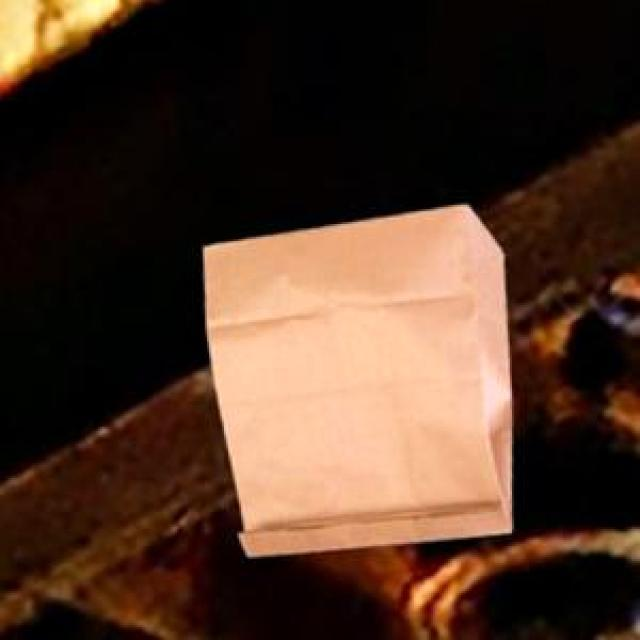Paper_Bag: (202, 202, 508, 554)
